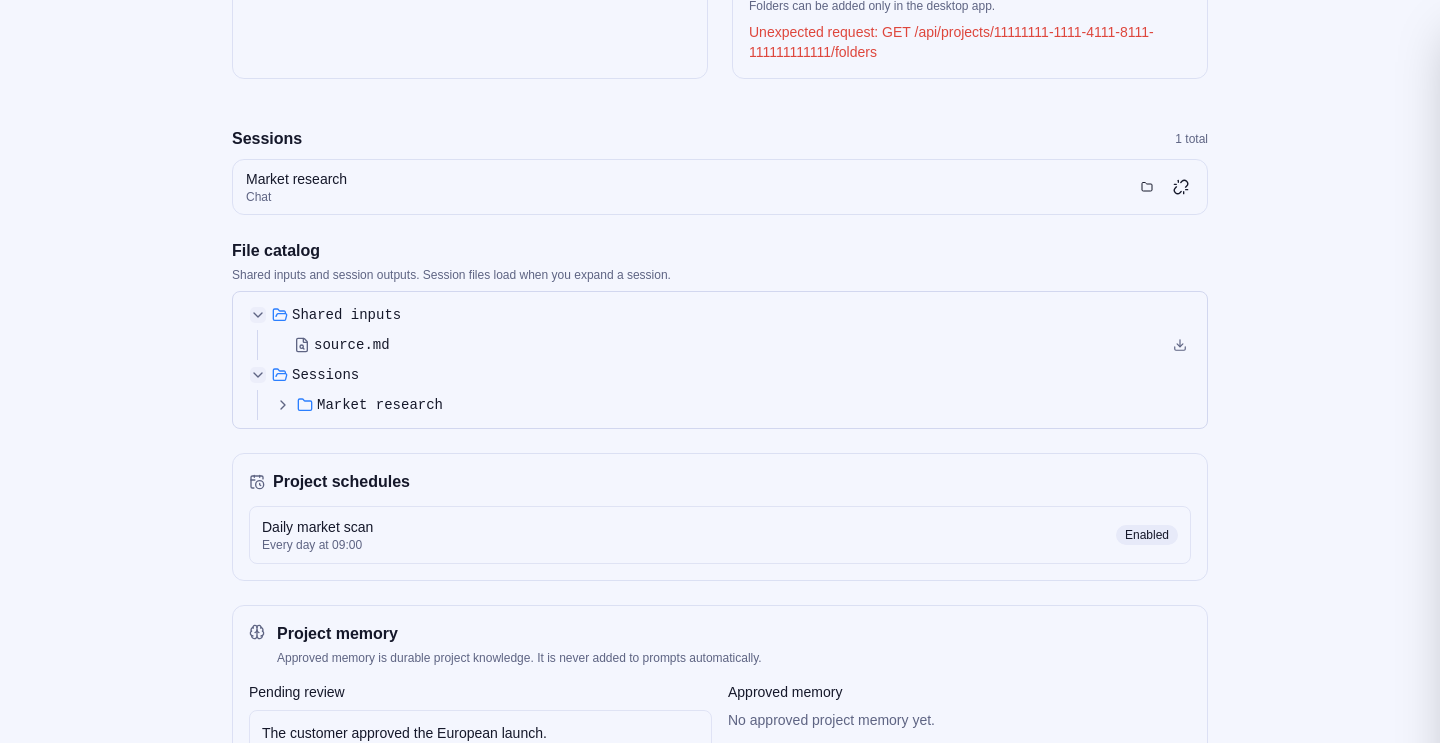
it: LibraryPanel › expands file-tree branches and subbranches when their titles are clicked
(page scrolled)
Click the button "Market research" at (380,405), box x1=296 y1=394 x2=1191 y2=416
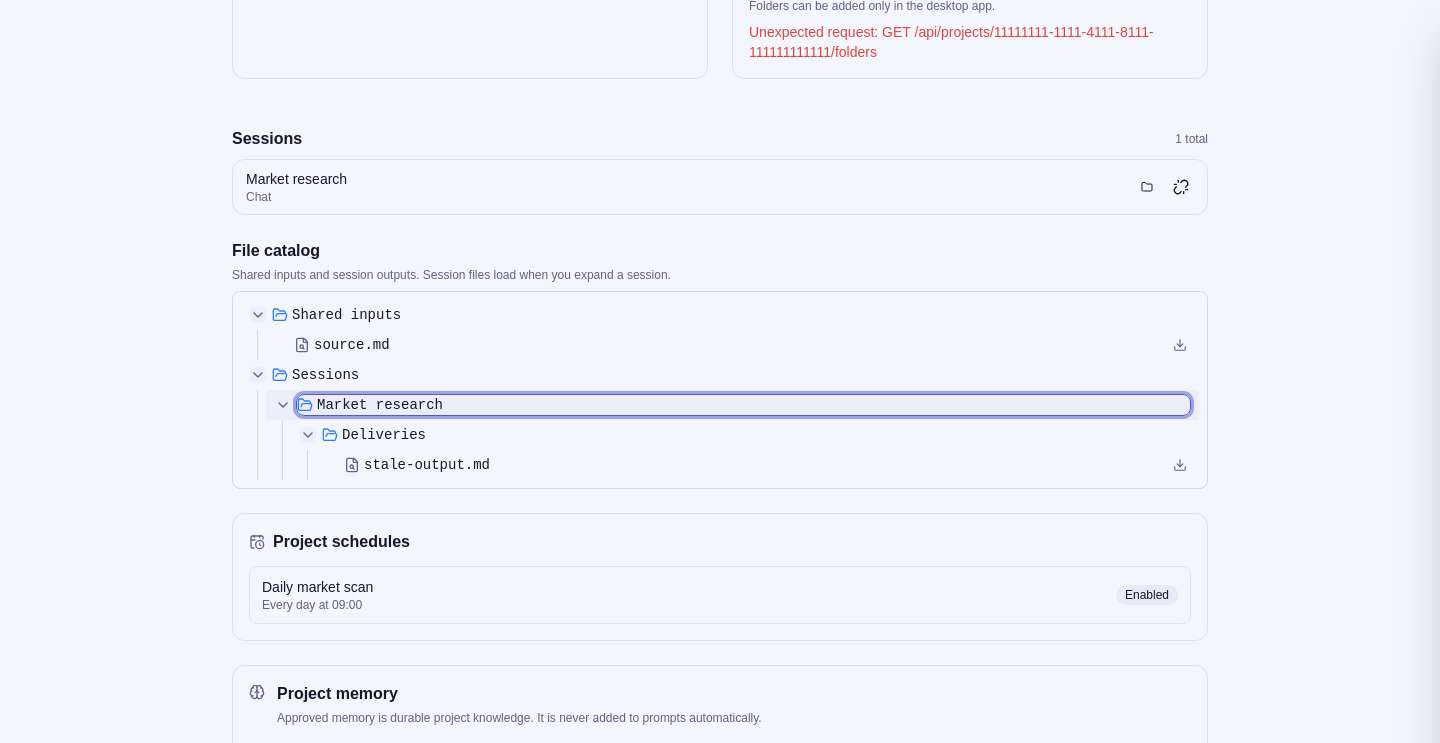
Check: the text "stale-output.md" is shown, box x1=364 y1=455 x2=490 y2=475
Click the button "Deliveries" at (384,435), box x1=321 y1=424 x2=1191 y2=446
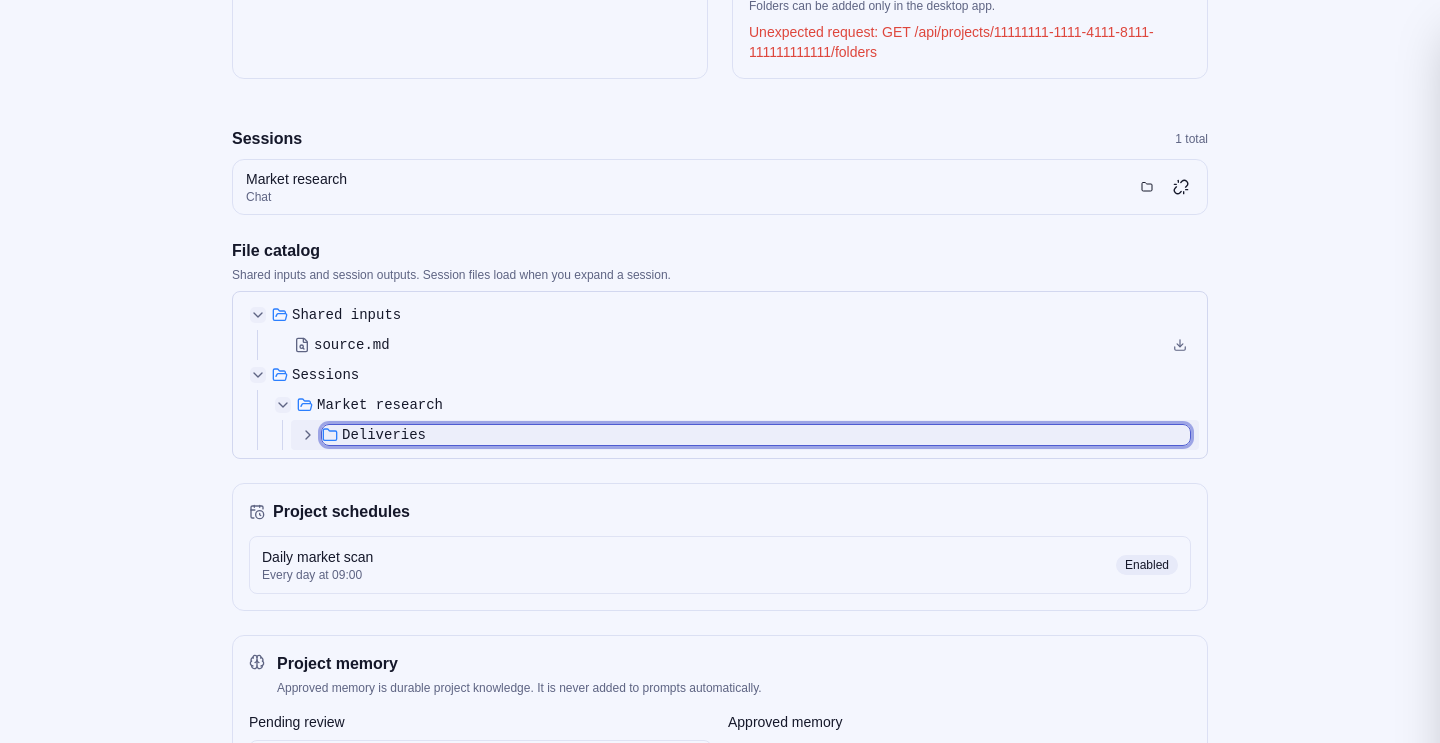
Check: the text "stale-output.md" is gone
Click the button "Deliveries" at (384,435), box x1=321 y1=424 x2=1191 y2=446
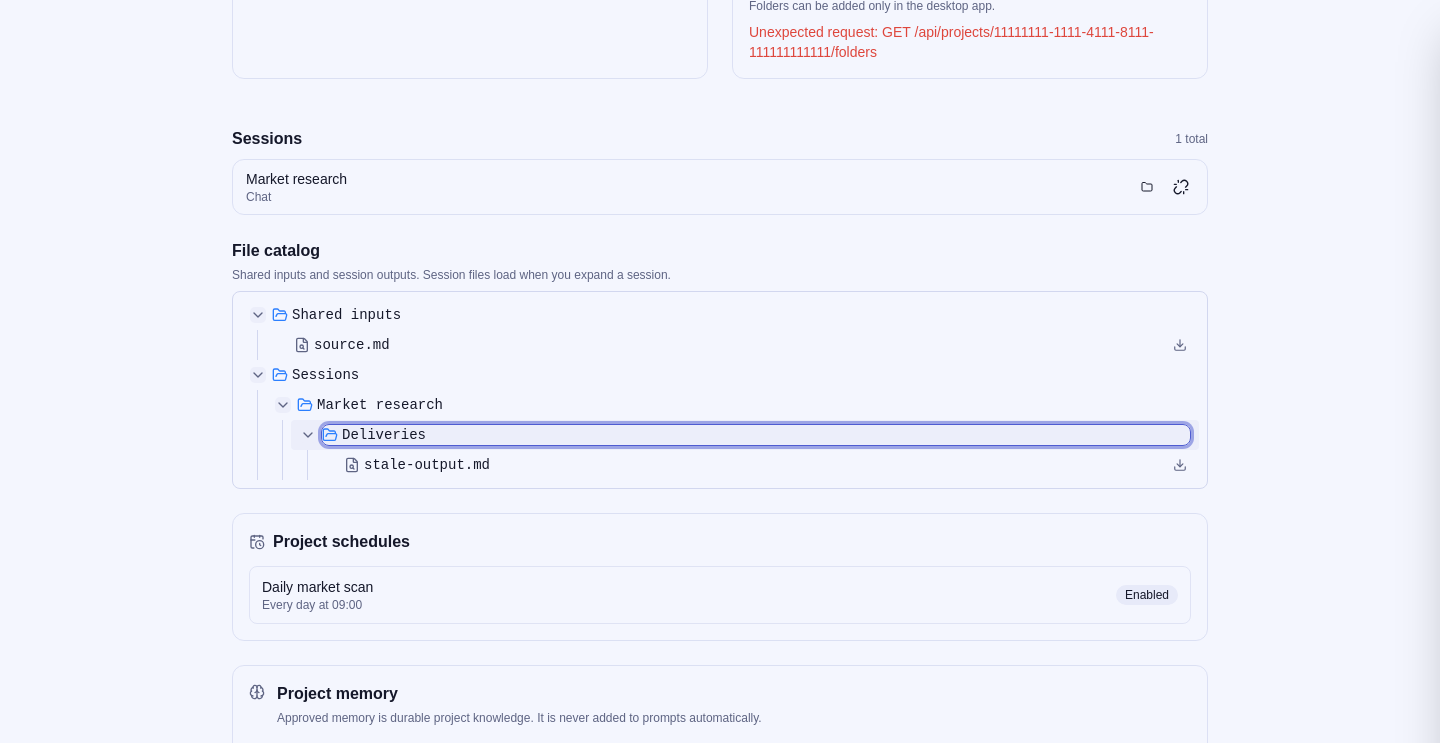
Check: the text "stale-output.md" is shown, box x1=364 y1=455 x2=490 y2=475
